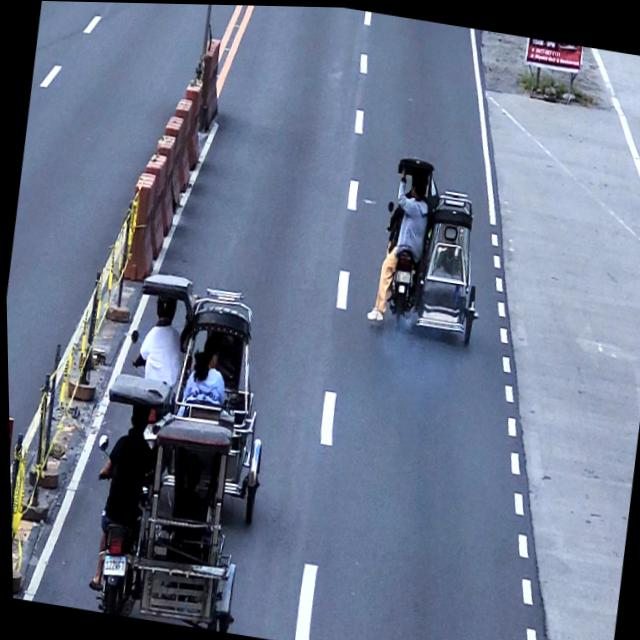License-Plate: (98, 550, 126, 578), (393, 267, 410, 283)
Tricycle: (71, 369, 262, 633), (109, 266, 287, 534), (369, 152, 498, 346)
